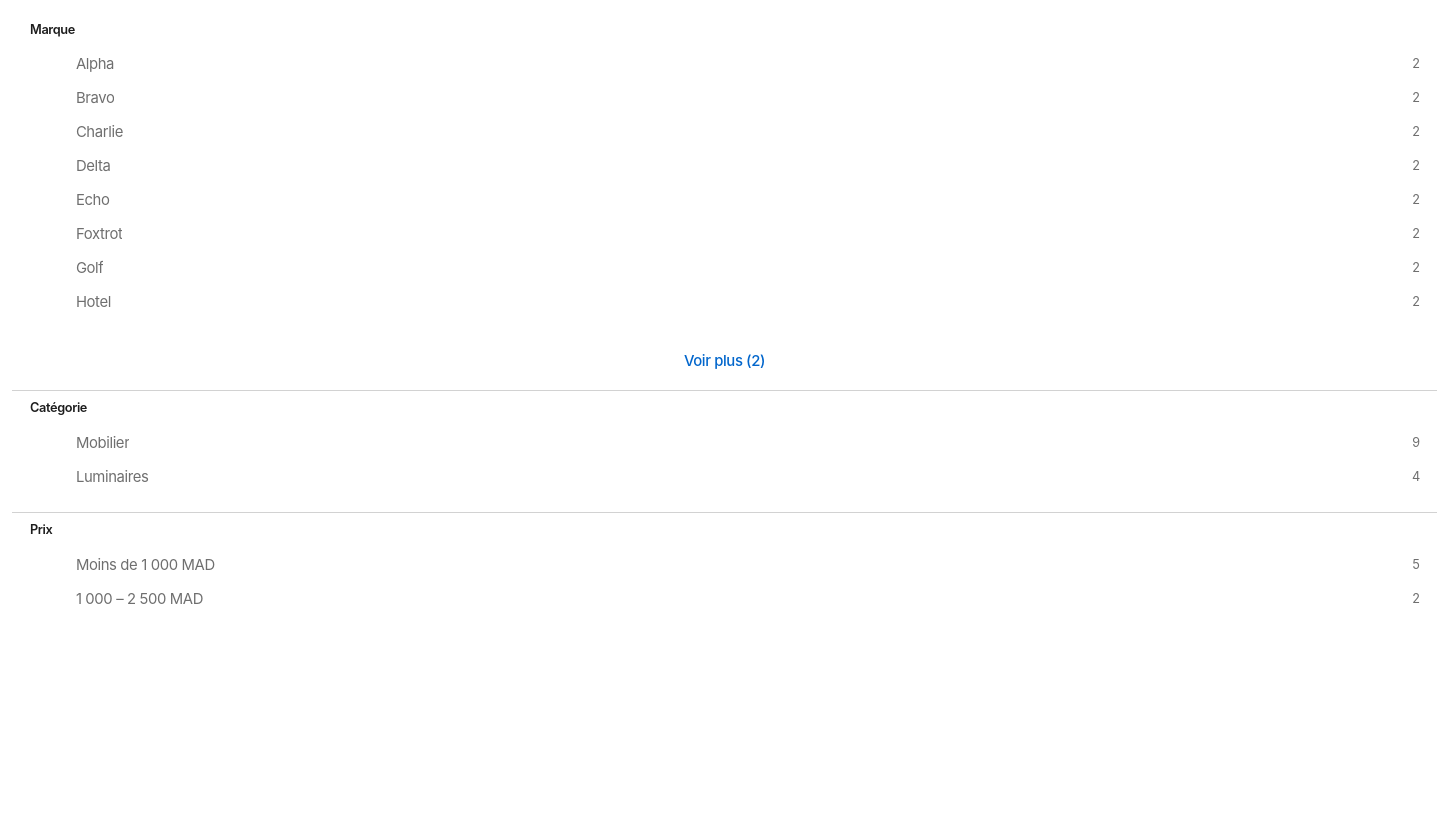
Scenario: FilterSidebar — liste de texte › tronque les Marques avec « Voir plus (n) » puis « Voir moins »
Click the button "Voir plus (2)" at (724,361), box [29,350,1420,373]
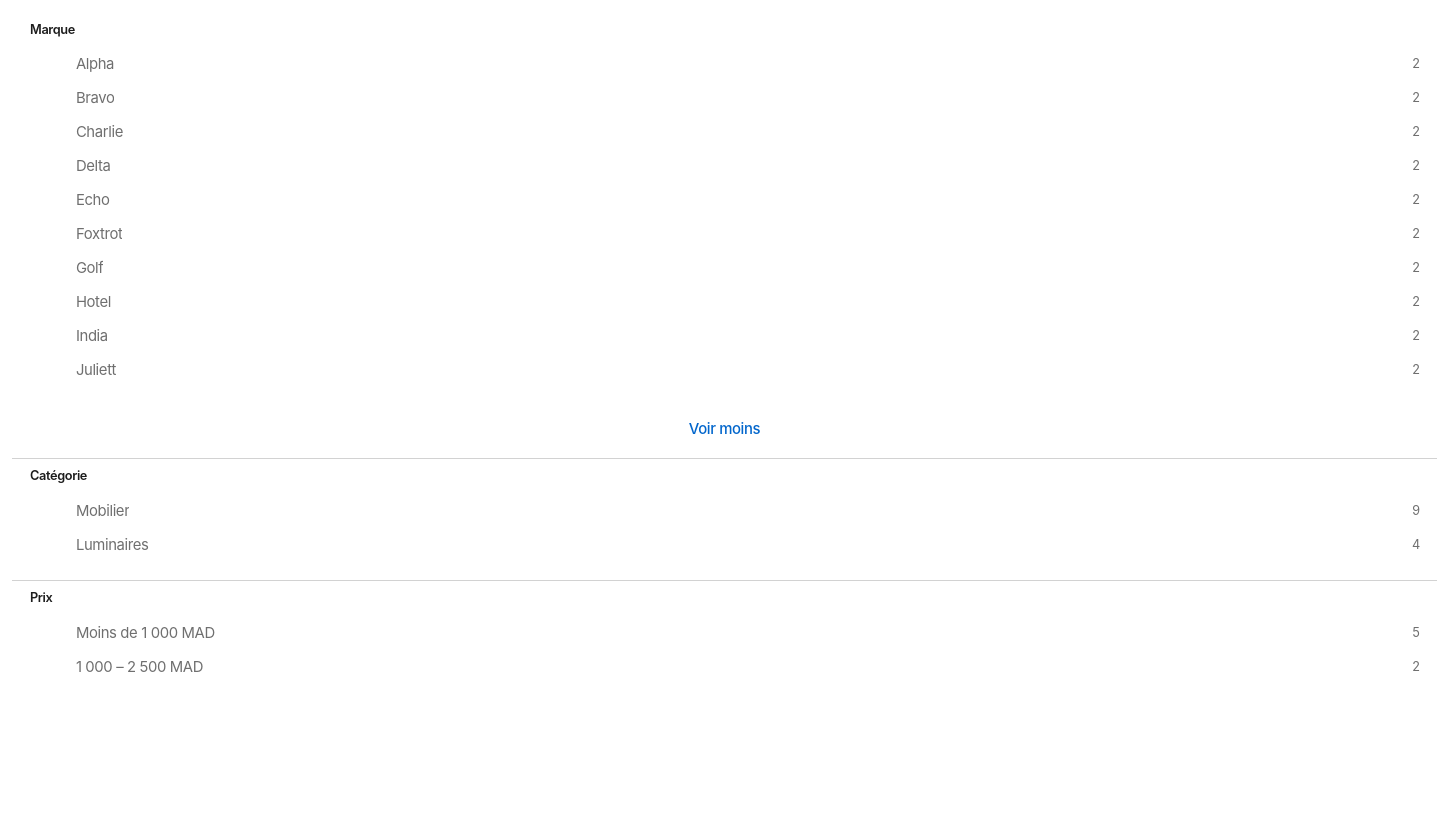
Expected: the checkbox labelled "India 2" is shown, [28,327,1420,346]
Expected: the checkbox labelled "Juliett 2" is shown, [28,361,1420,380]
Expected: the button "Voir moins" is shown, [29,418,1420,441]
